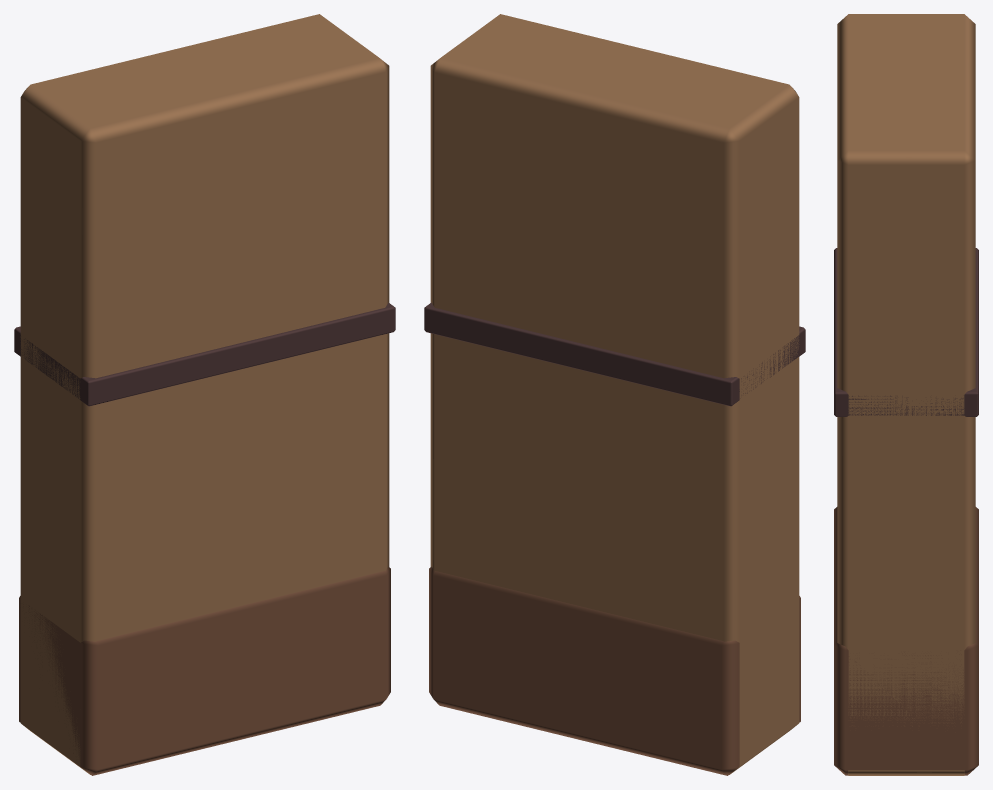
Rendered from ghost-town-wall-outer.cdd51332.glb.
3 renders of one model, left to right at view 1: azimuth 30°, elevation 25°; view 2: azimuth 150°, elevation 25°; view 3: azimuth 270°, elevation 25°, orthographic. The views are drawn at different scales.
Parts seen in each view (by area): view 1: body; view 2: body; view 3: body.
Boxes of the visible parts, bbox=[...] form: body: bbox=[14, 14, 395, 775]; body: bbox=[424, 14, 805, 775]; body: bbox=[834, 14, 978, 775].
Bounding box in the file's own units: 1 × 2 × 0.42.
